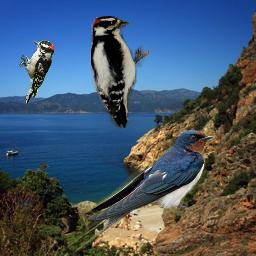Swallow: (64, 130, 215, 256)
Woodpecker: (91, 16, 149, 128), (19, 39, 54, 104)
